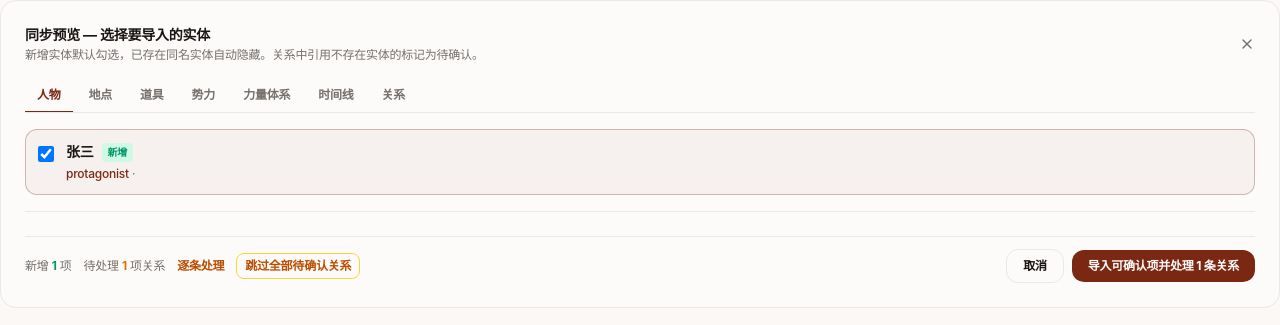
it: SyncPreviewPanel T4.4-T4.6 › T4.4b: partial sync keeps the preview open and enters unresolved relationship repair
Click the button "导入可确认项并处理 1 条关系": (1163, 266) x1=1072 y1=250 x2=1255 y2=282
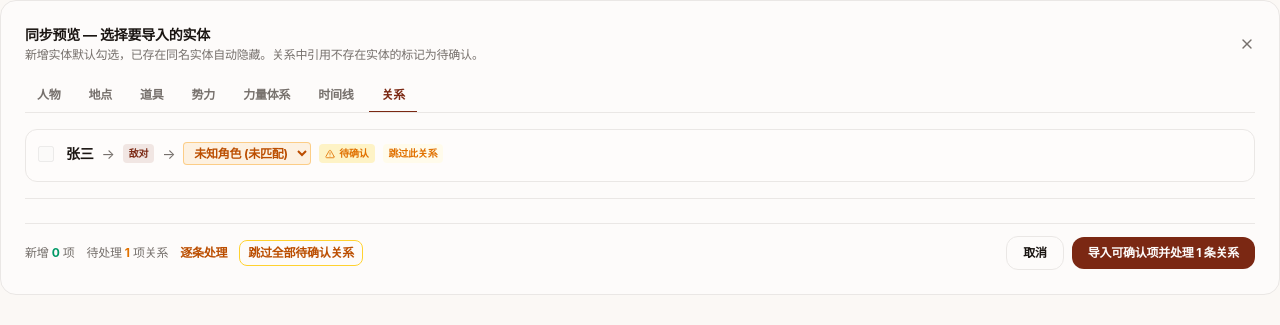
Check: the text "同步预览 — 选择要导入的实体" is shown, box x1=25 y1=26 x2=210 y2=43
Check: the text "待确认" is shown, box x1=319 y1=144 x2=375 y2=163
